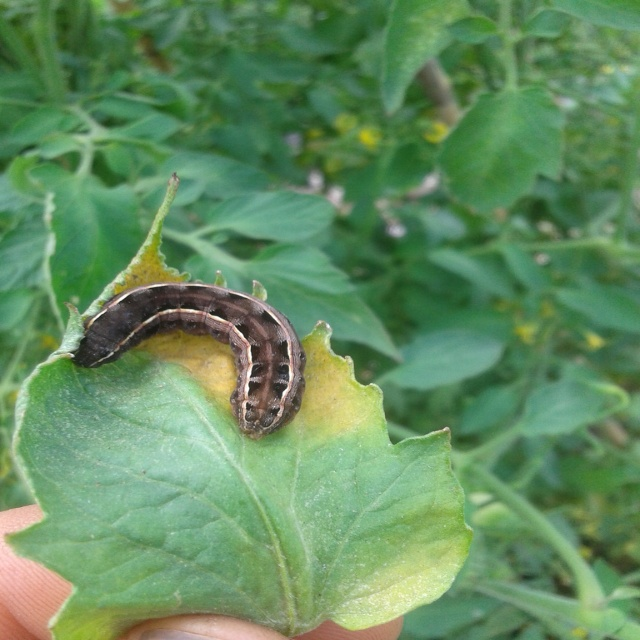Caterpillar: (68, 274, 313, 440)
